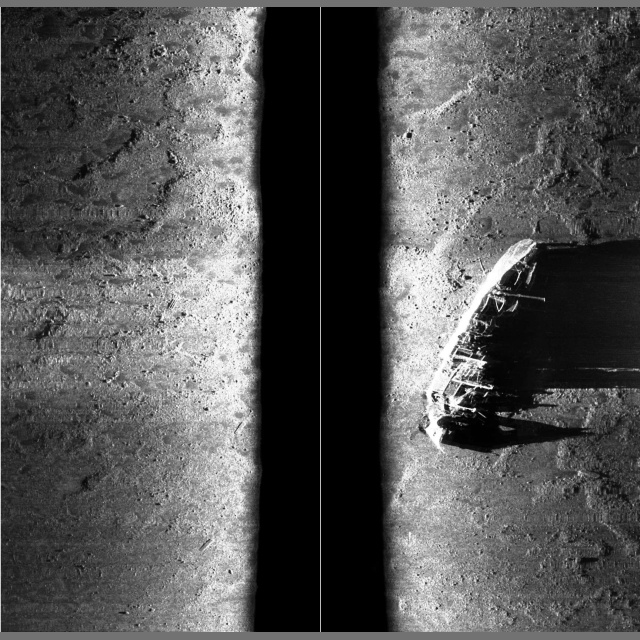Shipwreck: (168, 239, 546, 552)
